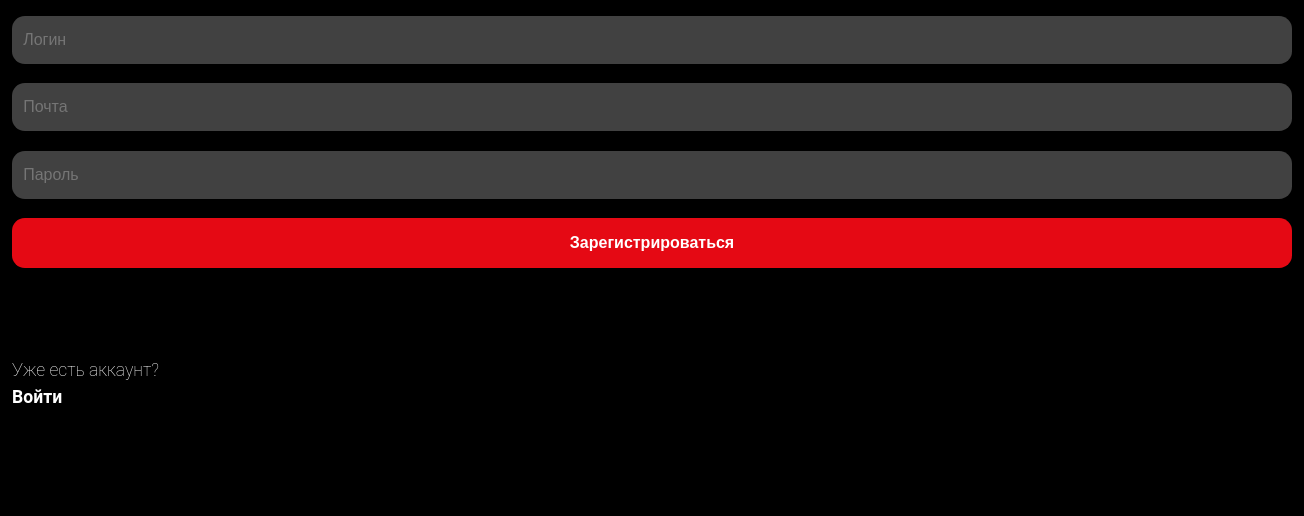
CustomForm Signup › Выводит ошибку неправильного формата почты
Type "invalid-email" into the field with placeholder "Почта" at x=652, y=107, box [12,83,1292,131]
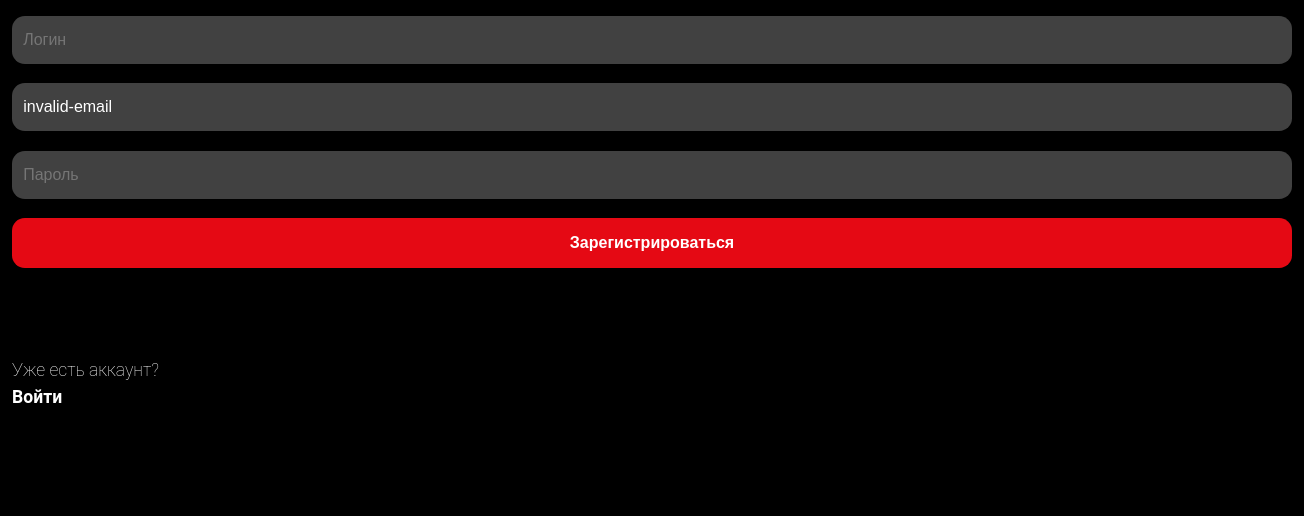
Submit the form
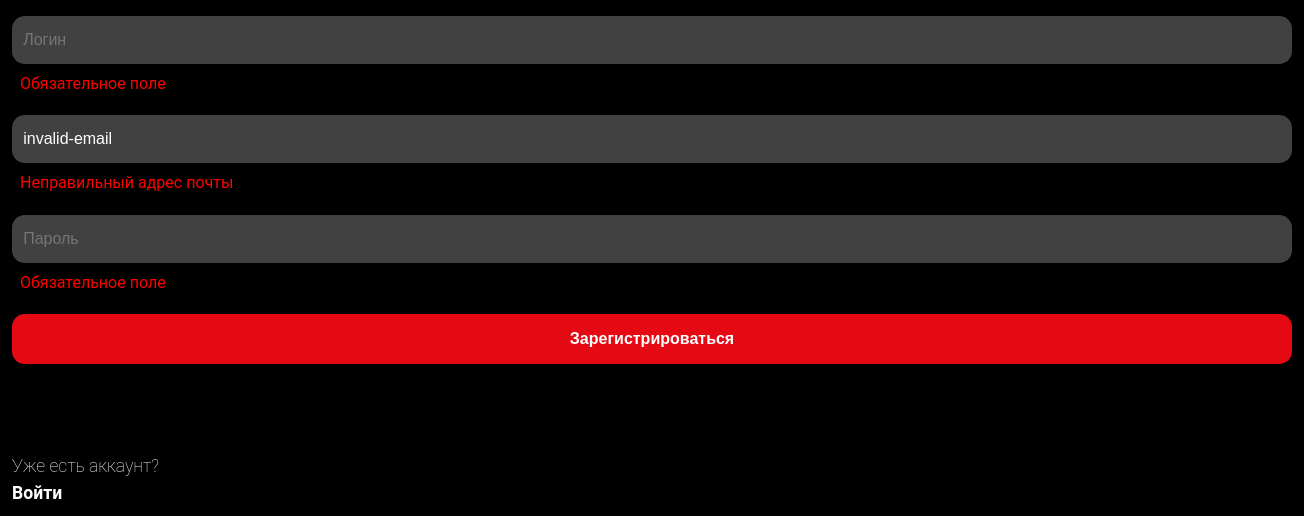
Now the text "Неправильный адрес почты" is shown, box [20,173,233,192]
